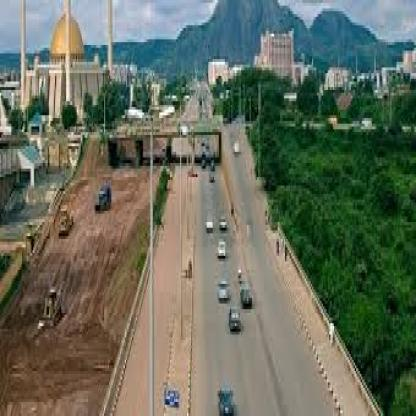car: (211, 379, 237, 414), (238, 274, 256, 316), (226, 300, 240, 341), (217, 198, 232, 236), (216, 233, 232, 264), (215, 274, 229, 309), (204, 208, 216, 242)
